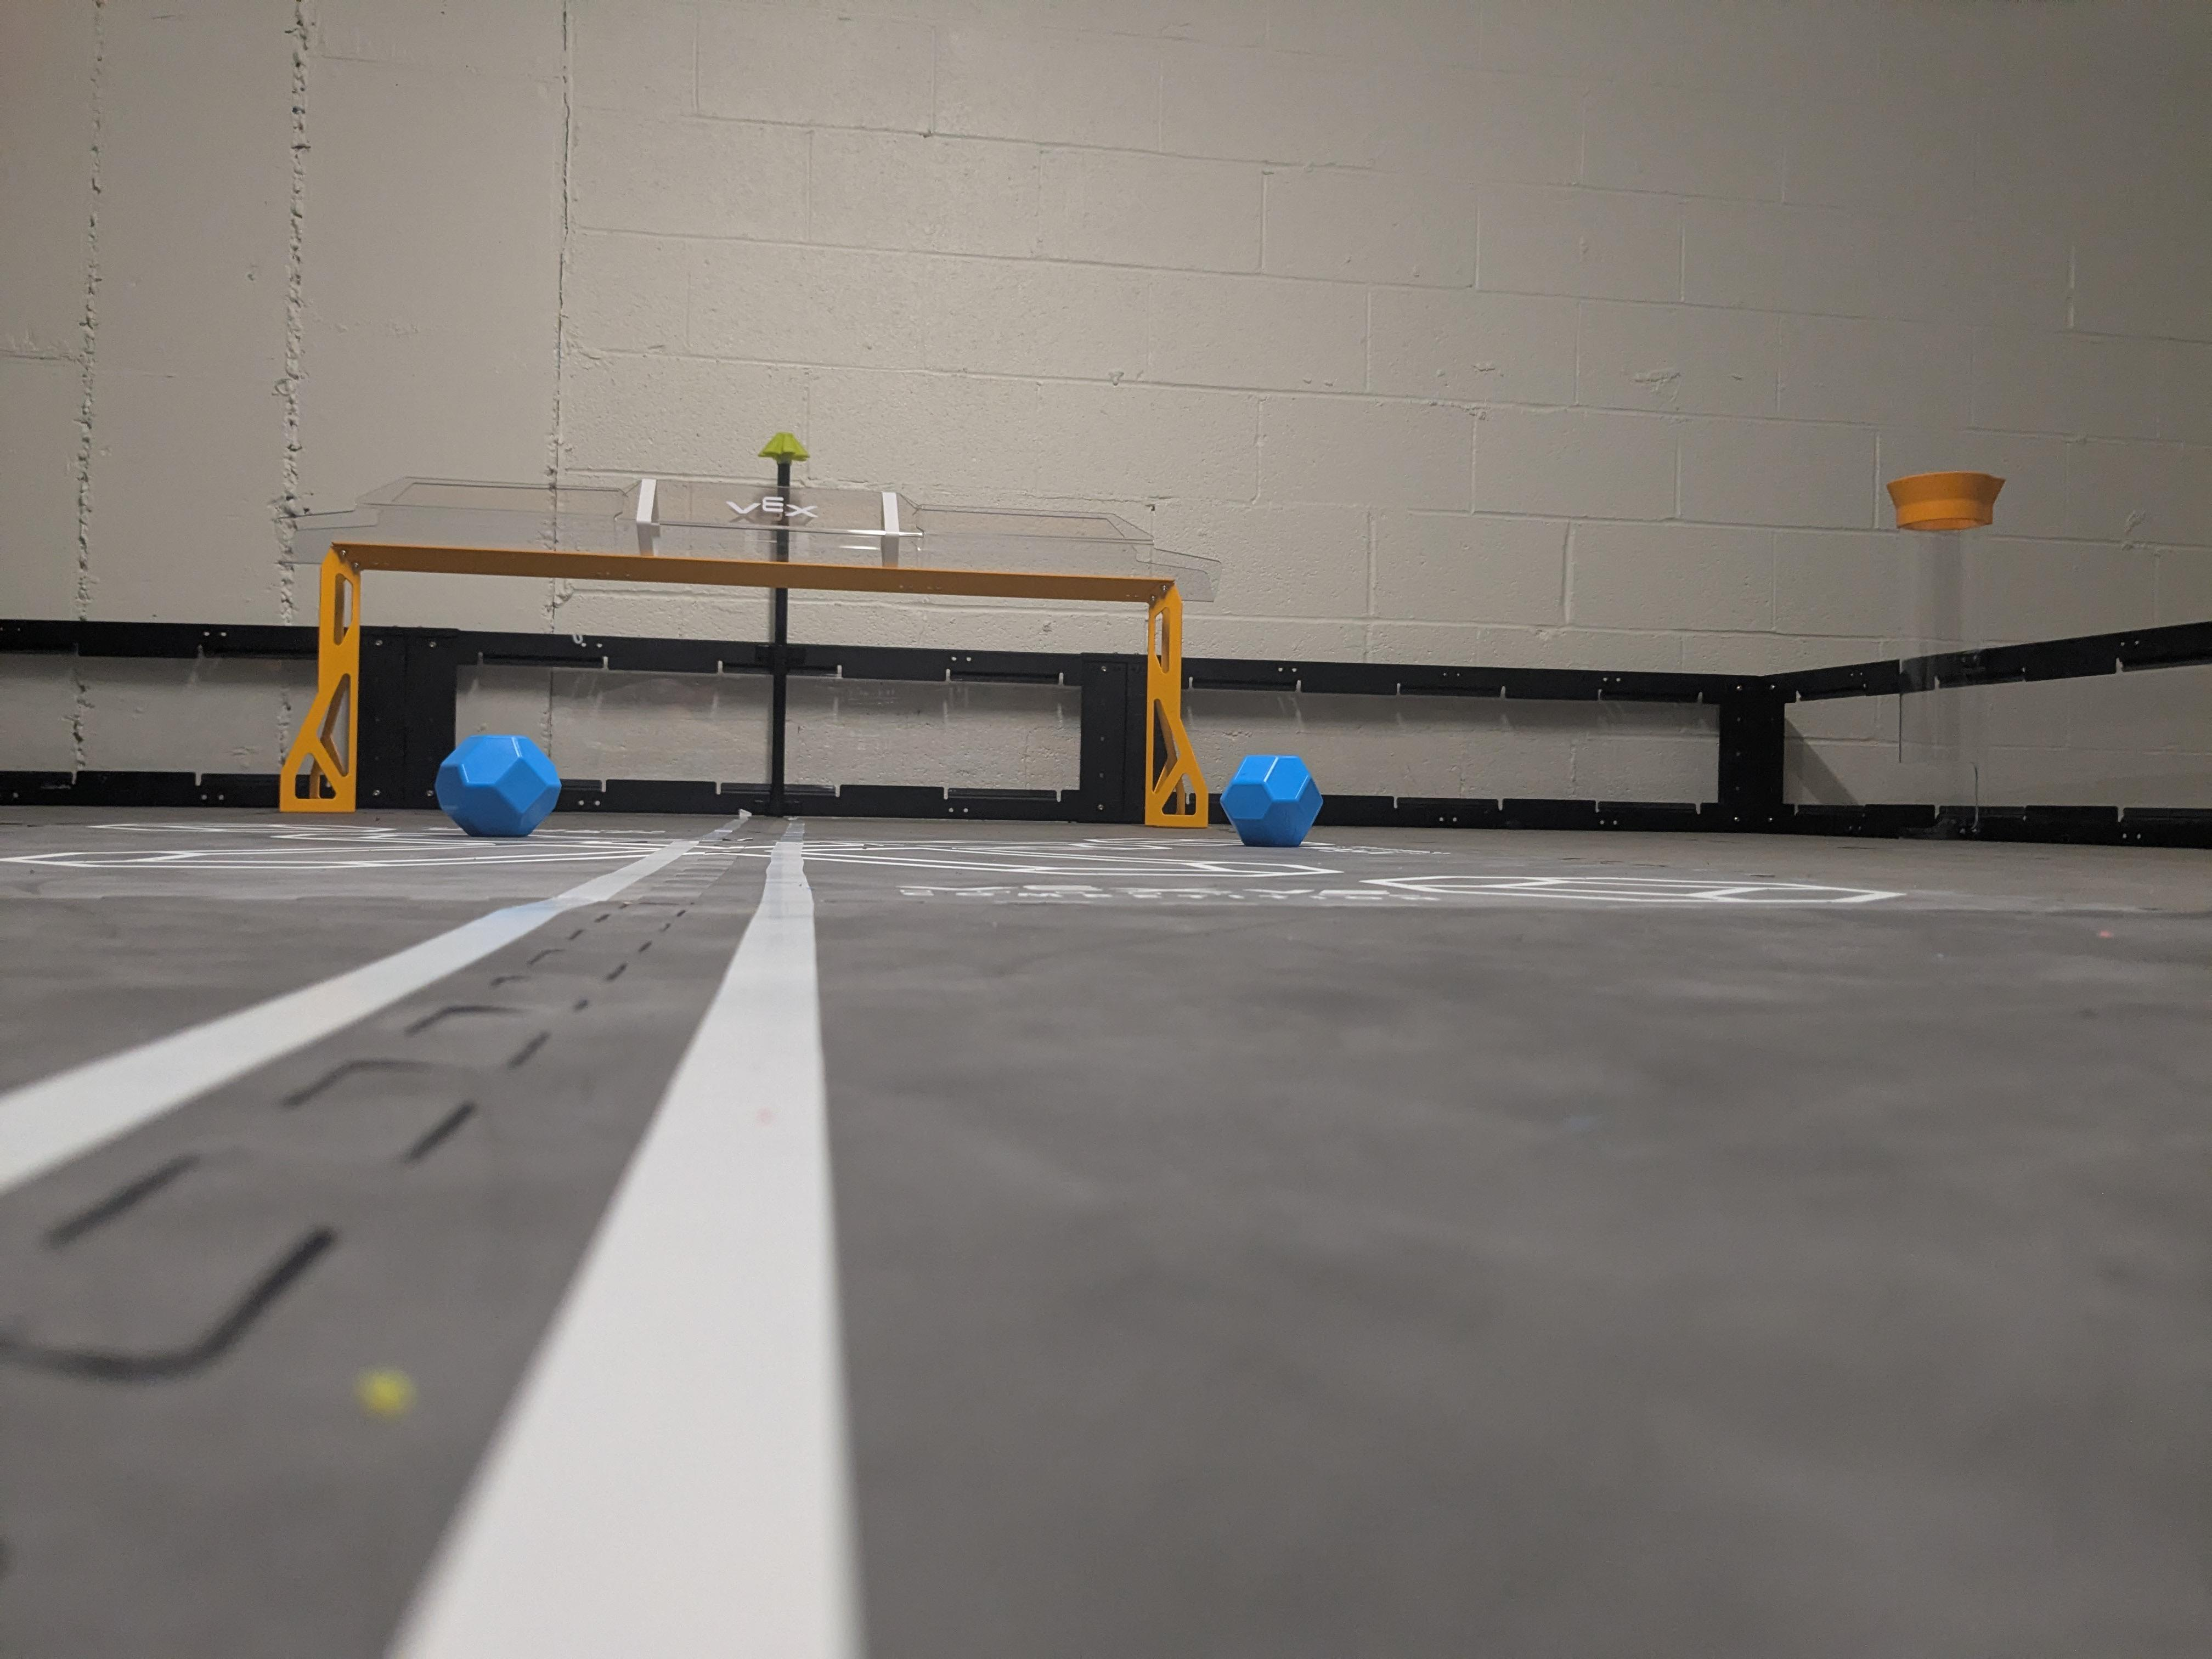Vex-Pieces-BLUE: (439, 735, 559, 836), (1223, 756, 1320, 845)
